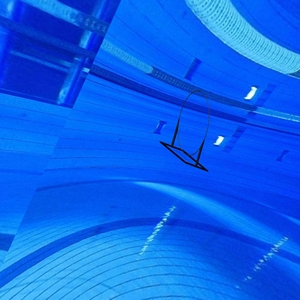circle: (158, 88, 212, 174)
